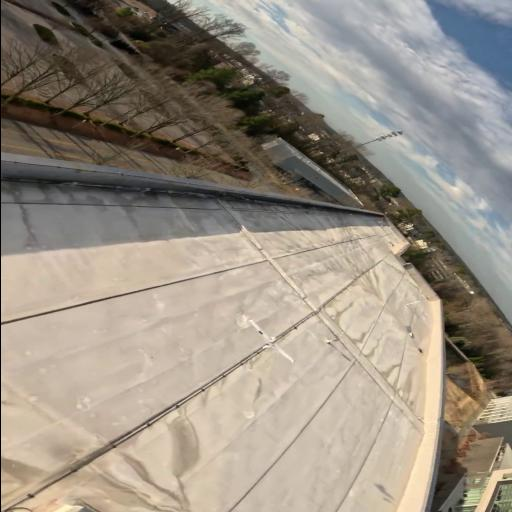uav: (246, 320, 296, 364)
